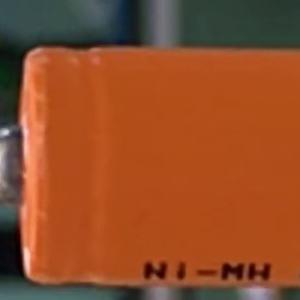NI-MH: (134, 253, 280, 290)
